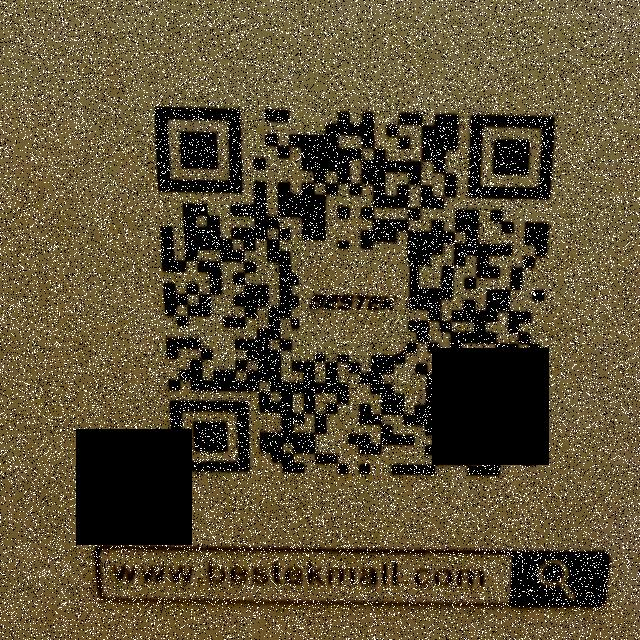QR_CODE: (126, 71, 560, 495)
